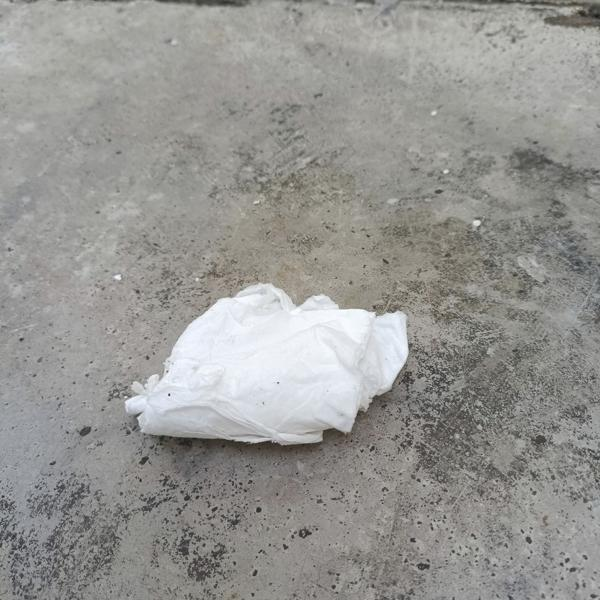Organik: (123, 265, 415, 477)
